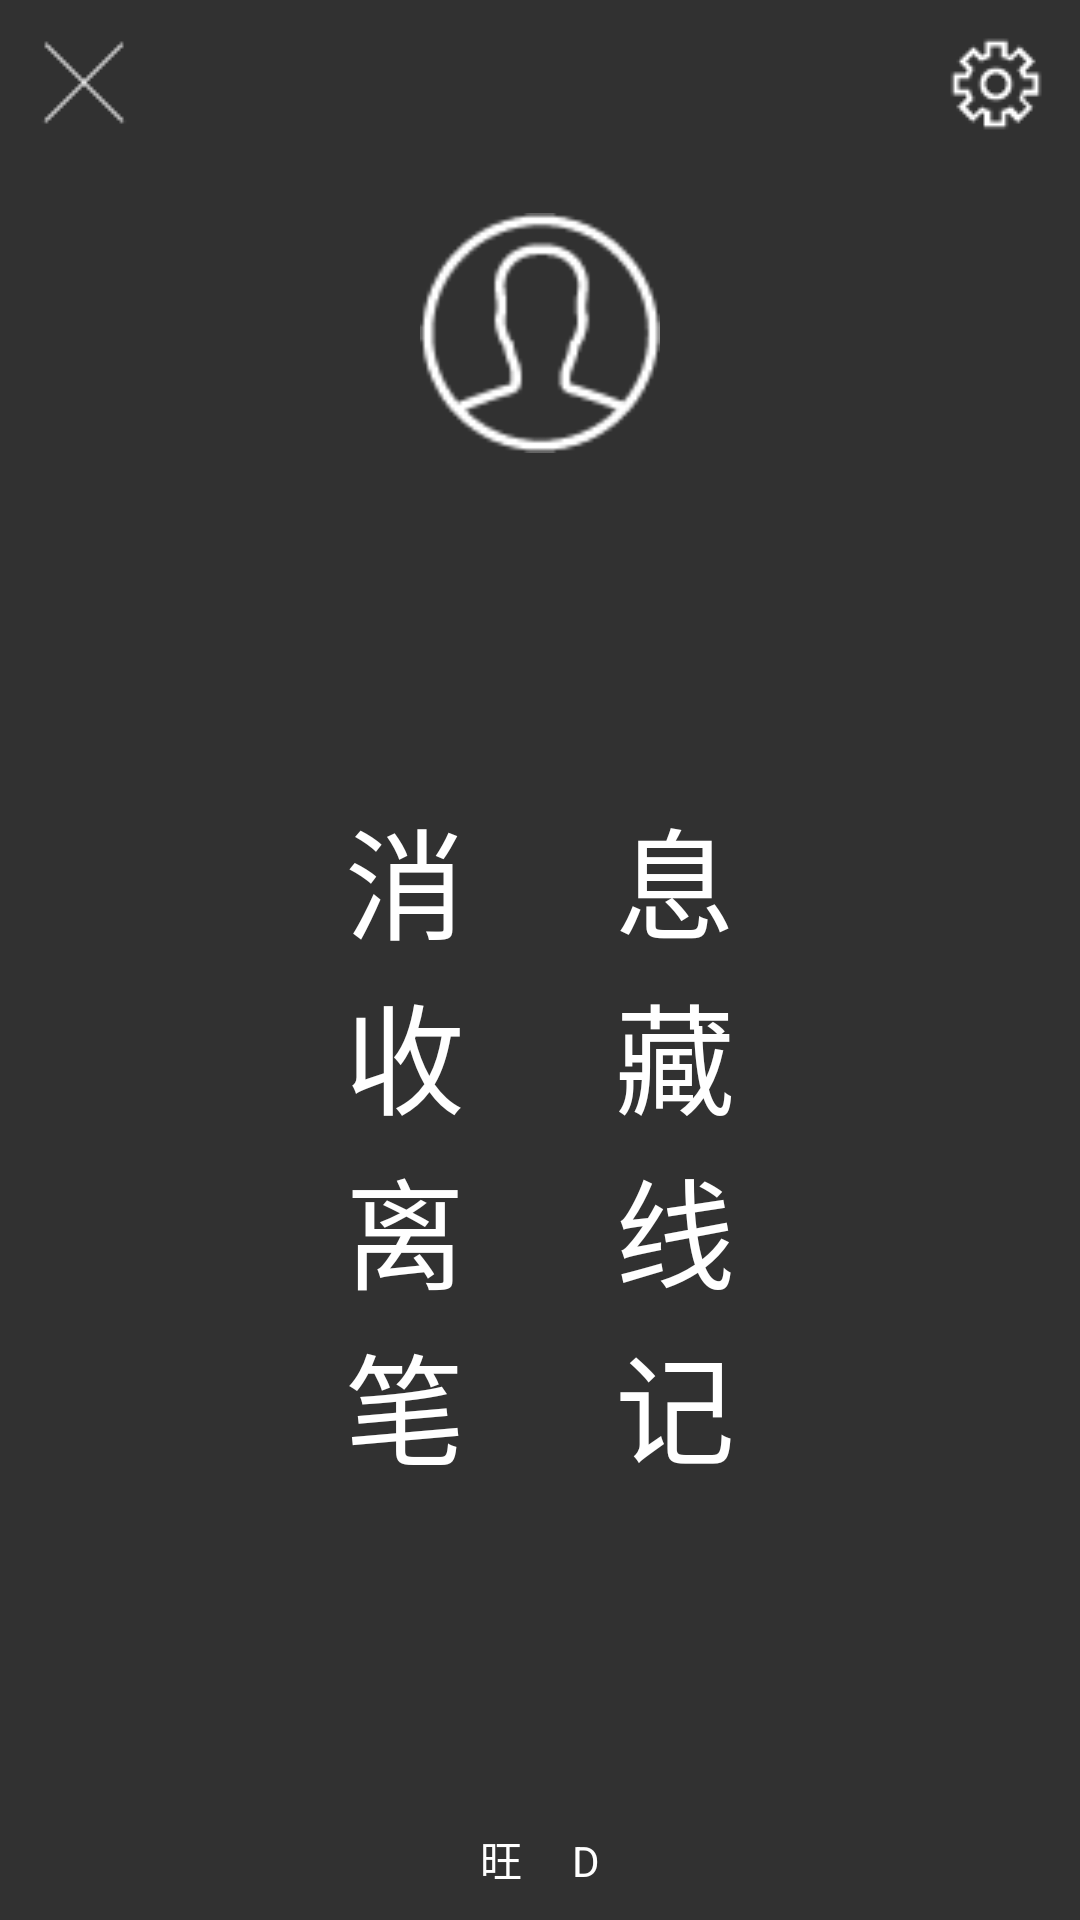

Locate icon controls on the screen. Image size 1080x1920, boxes as (x1, y1, x2, y2).
delete: (44, 41, 124, 124)
setting: (951, 39, 1041, 129)
user: (420, 213, 660, 453)
